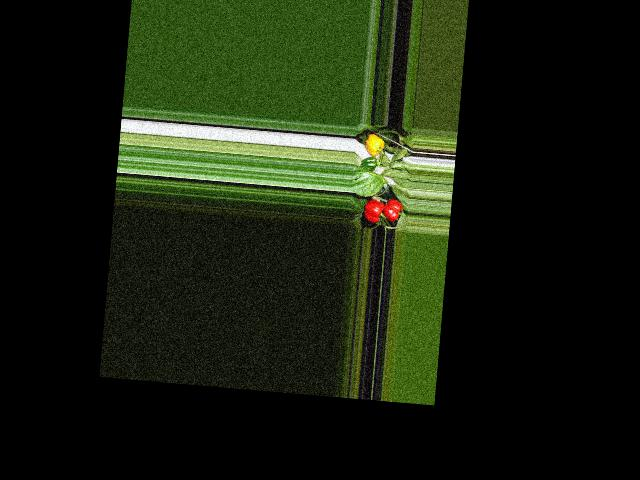bell_pepper: (362, 131, 386, 157)
